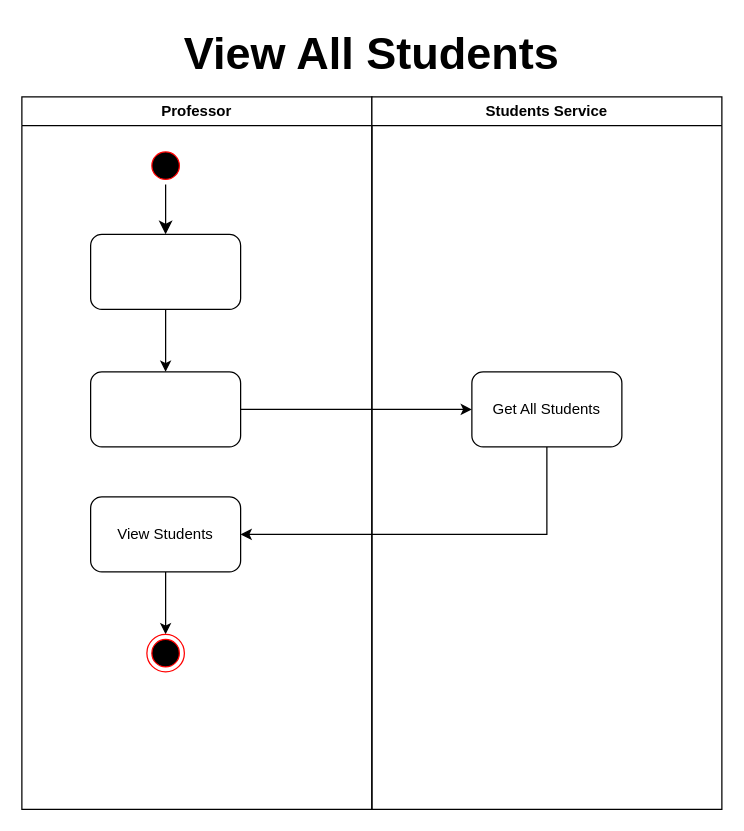
Image size: 744x831. Some labels were removed from this diagram. Each missing label, with the centre of its shape:
Open Home Page: the point at 165,409
Start Desktop Application: the point at 165,271
